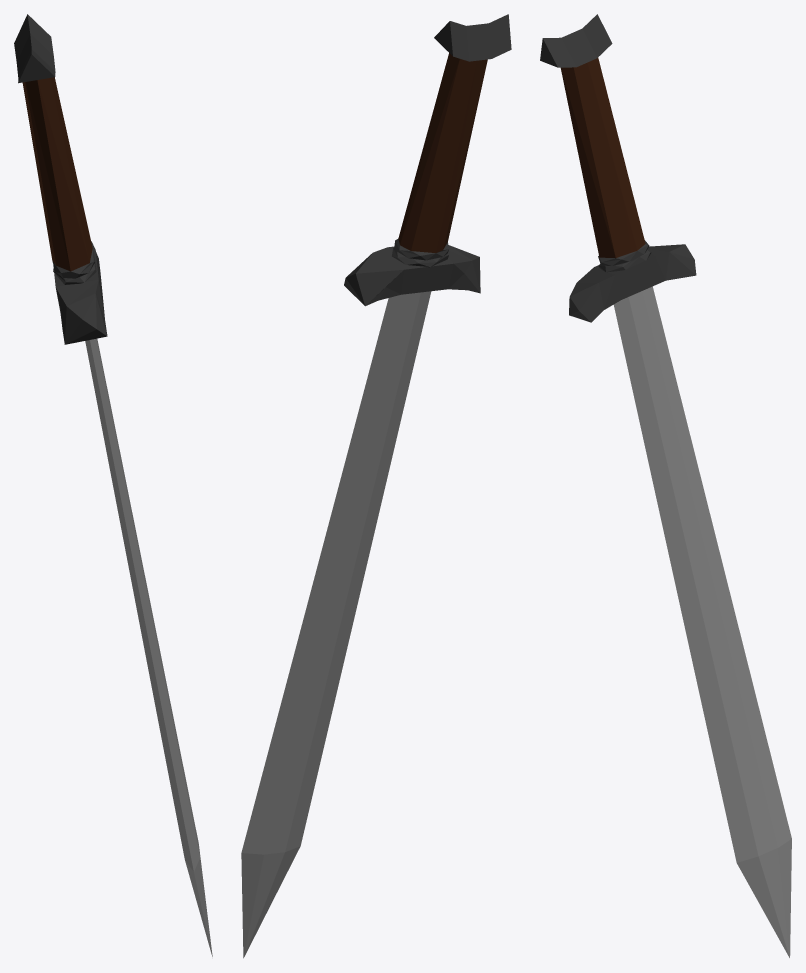
The model's file is sword.glb.
The picture shows the model from 3 angles, left to right: view 1: azimuth 30°, elevation 25°; view 2: azimuth 150°, elevation 25°; view 3: azimuth 330°, elevation 25°; orthographic projection. The views are drawn at different scales.
Visible parts, largest first — view 1: VikingSword (1); view 2: VikingSword (1); view 3: VikingSword (1).
Boxes of the visible parts, left/top/right/bottom form: VikingSword (1): left=14, top=14, right=212, bottom=956; VikingSword (1): left=241, top=14, right=511, bottom=958; VikingSword (1): left=540, top=14, right=791, bottom=957.
Bounding box in the file's own units: 0.5979 × 2.44 × 0.3245.
